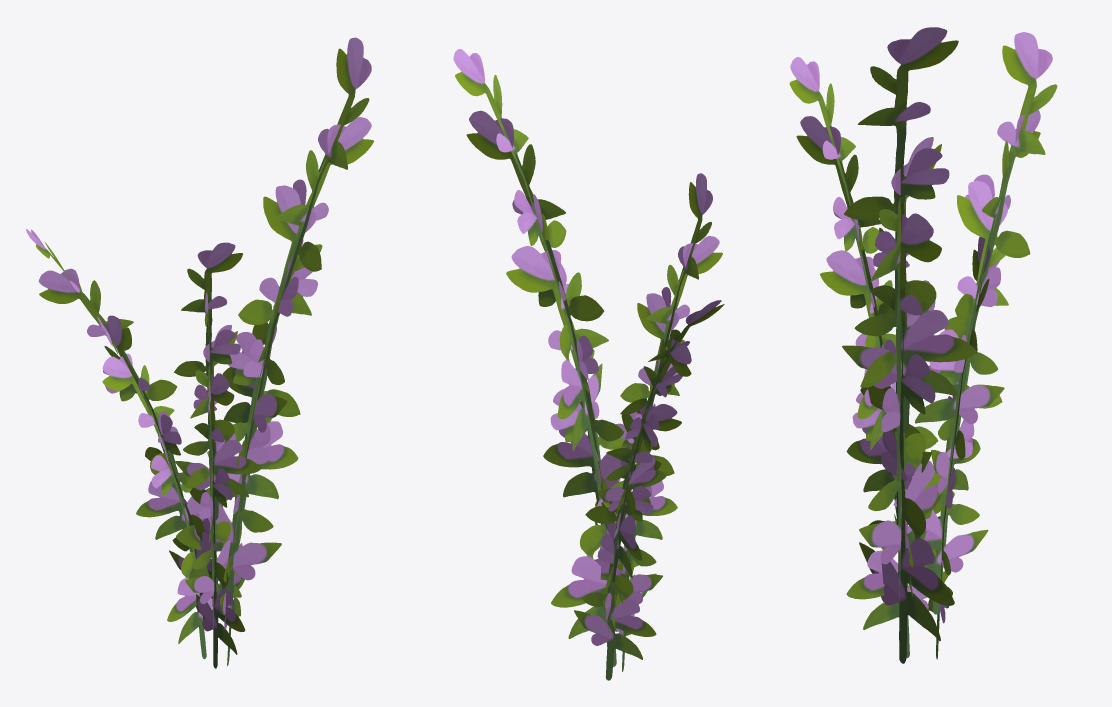
Rendered from AR_Flowers_002.FBX.
3 views of the same model, side by side, from view 1: azimuth 30°, elevation 25°; view 2: azimuth 150°, elevation 25°; view 3: azimuth 270°, elevation 25° (orthographic). The views are drawn at different scales.
Parts seen in each view (by area): view 1: AR_Flowers_002; view 2: AR_Flowers_002; view 3: AR_Flowers_002.
Boxes of the visible parts, x1,y1,x2,y2 form: AR_Flowers_002: (26, 37, 373, 668); AR_Flowers_002: (453, 49, 724, 680); AR_Flowers_002: (789, 27, 1057, 663).
Bounding box in the file's own units: 29.1 × 49.33 × 19.62.
